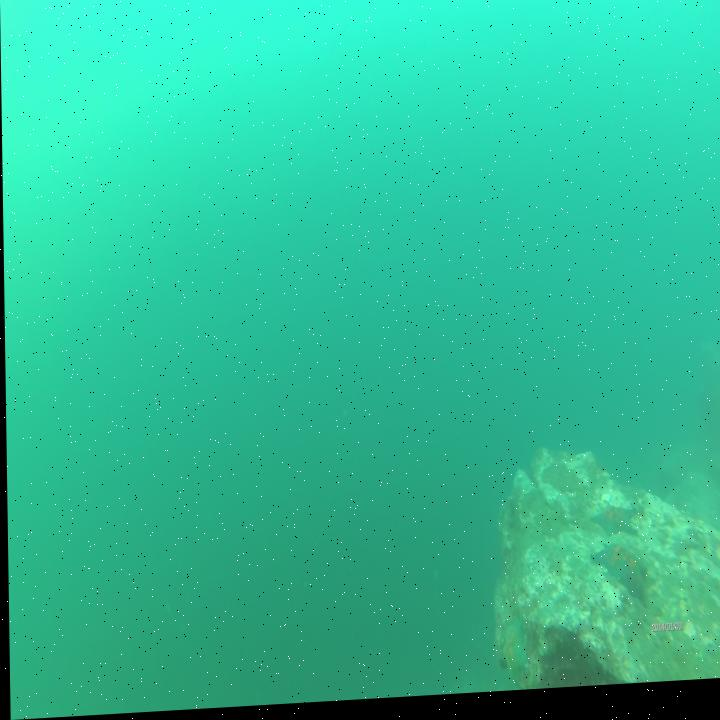starfish: (588, 541, 645, 607), (496, 622, 532, 687), (589, 505, 636, 550)
